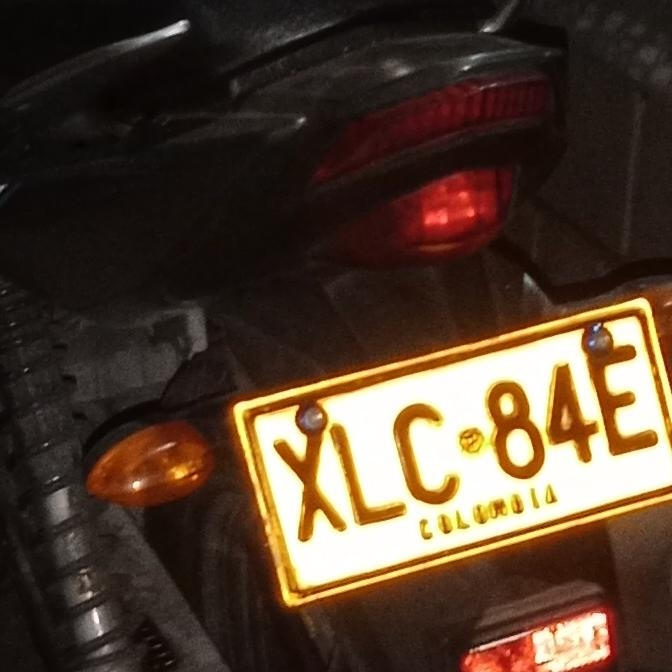plates: (237, 304, 672, 610)
